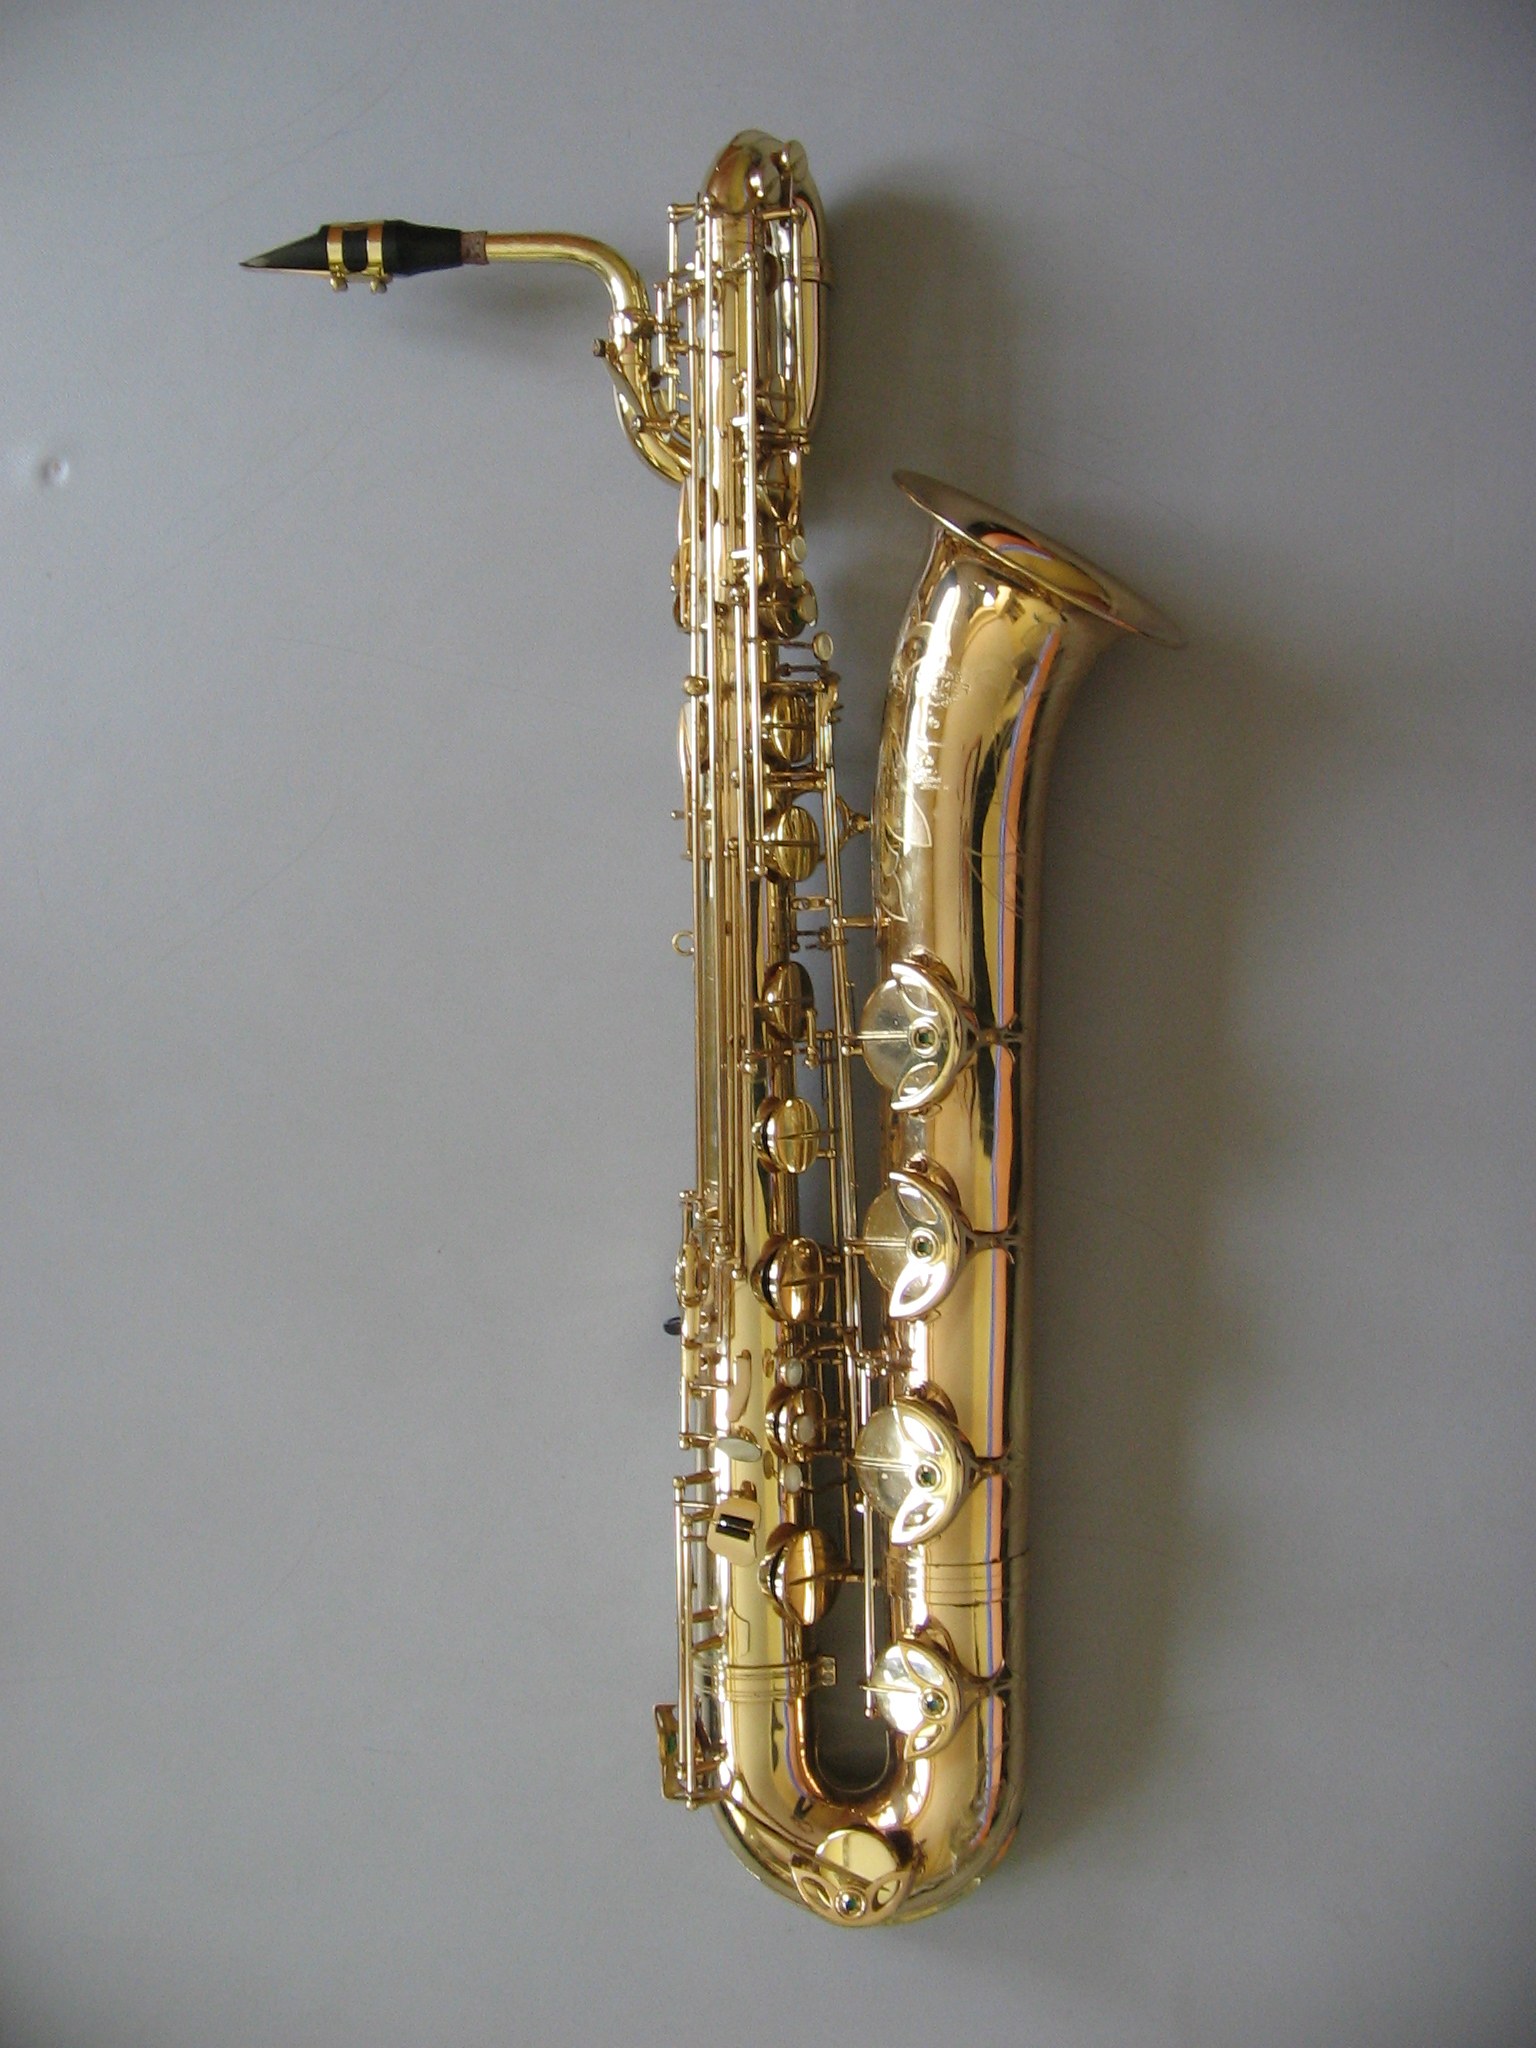Saxophone: (182, 89, 1305, 2030)
